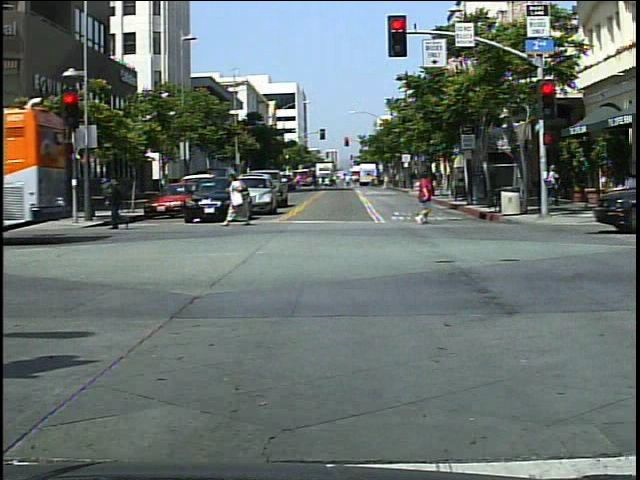person: (224, 166, 255, 230), (409, 166, 439, 230), (105, 169, 134, 232), (545, 160, 567, 211)
